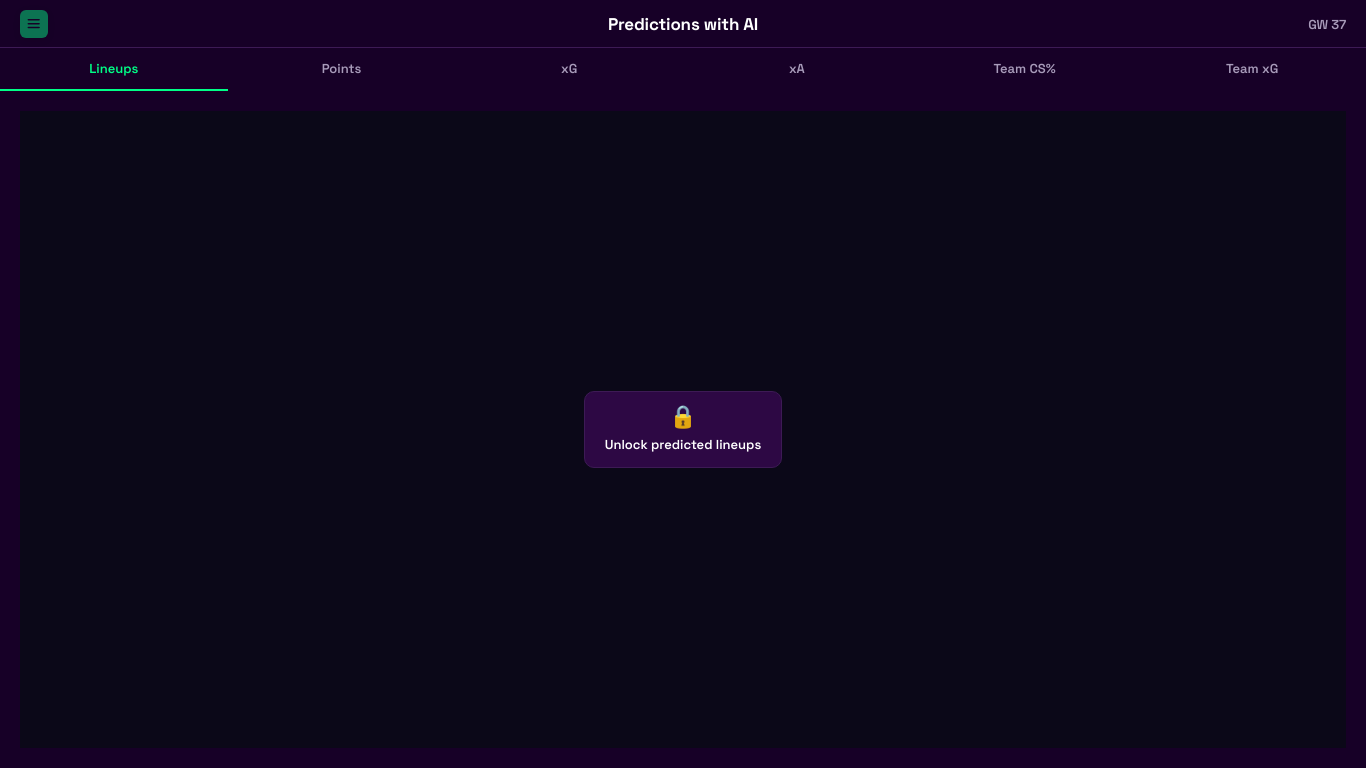
Test: PredictionsScreen › Points tab › uses predictions player profile on Points tab without past gameweek stats
Click the tab "Points". click: (342, 70)
box: left=228, top=48, right=455, bottom=91
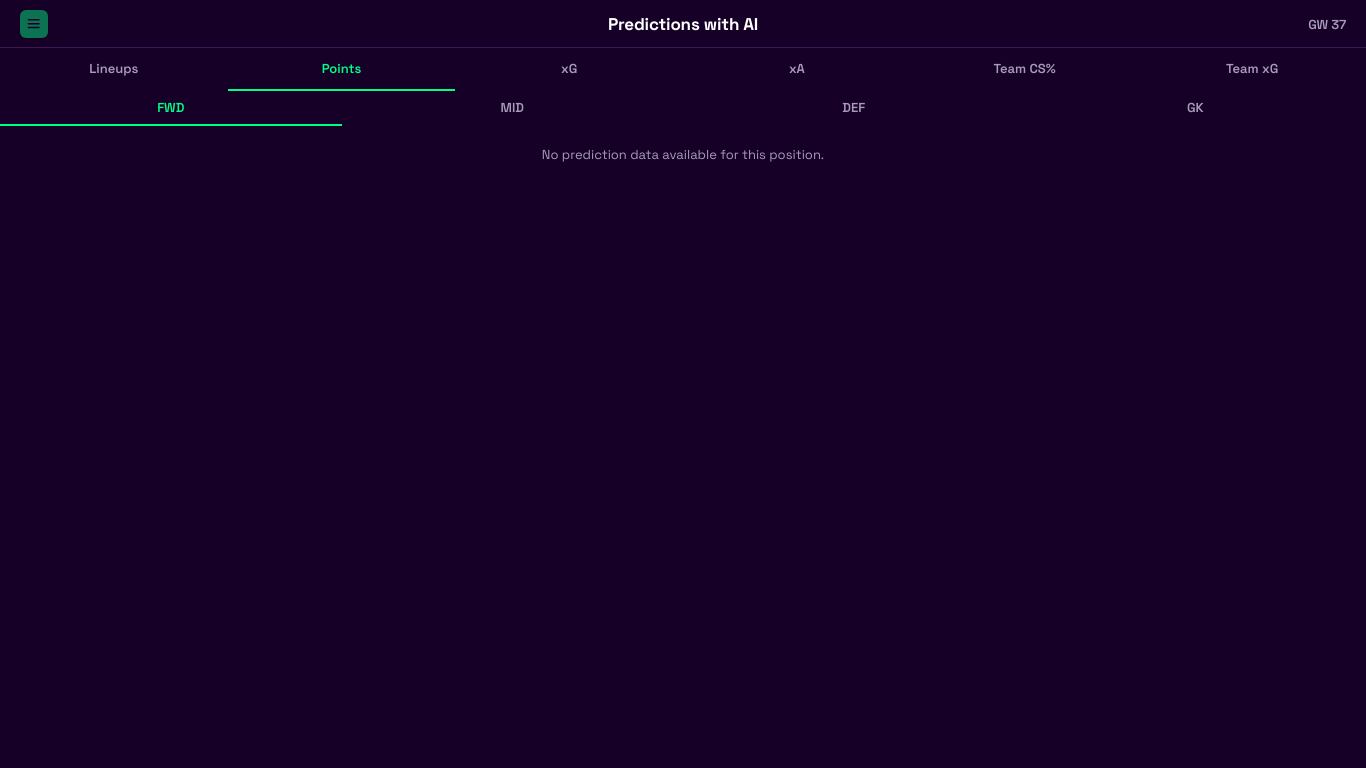
Click the tab "MID". click: (512, 108)
box: left=342, top=91, right=683, bottom=126
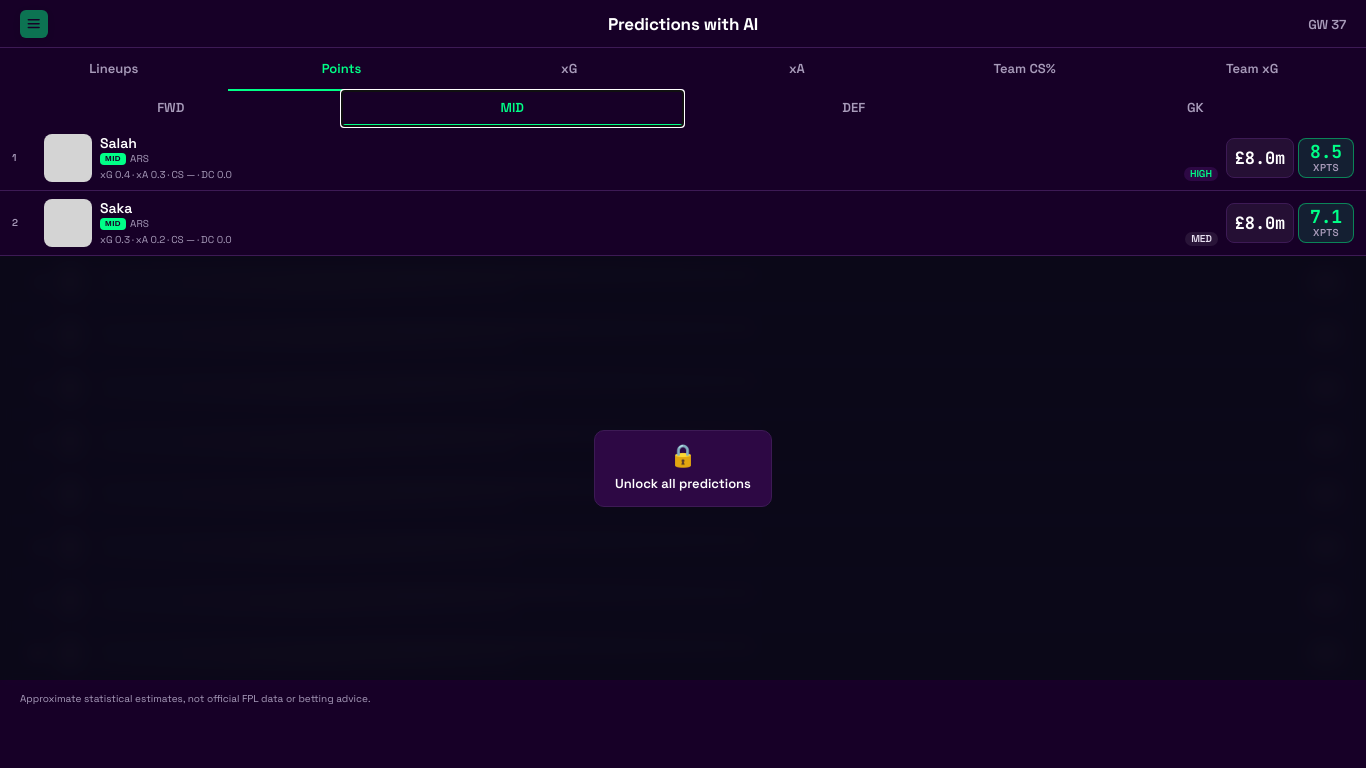
Click the button "Salah". click: (68, 158)
box: left=0, top=126, right=1365, bottom=191
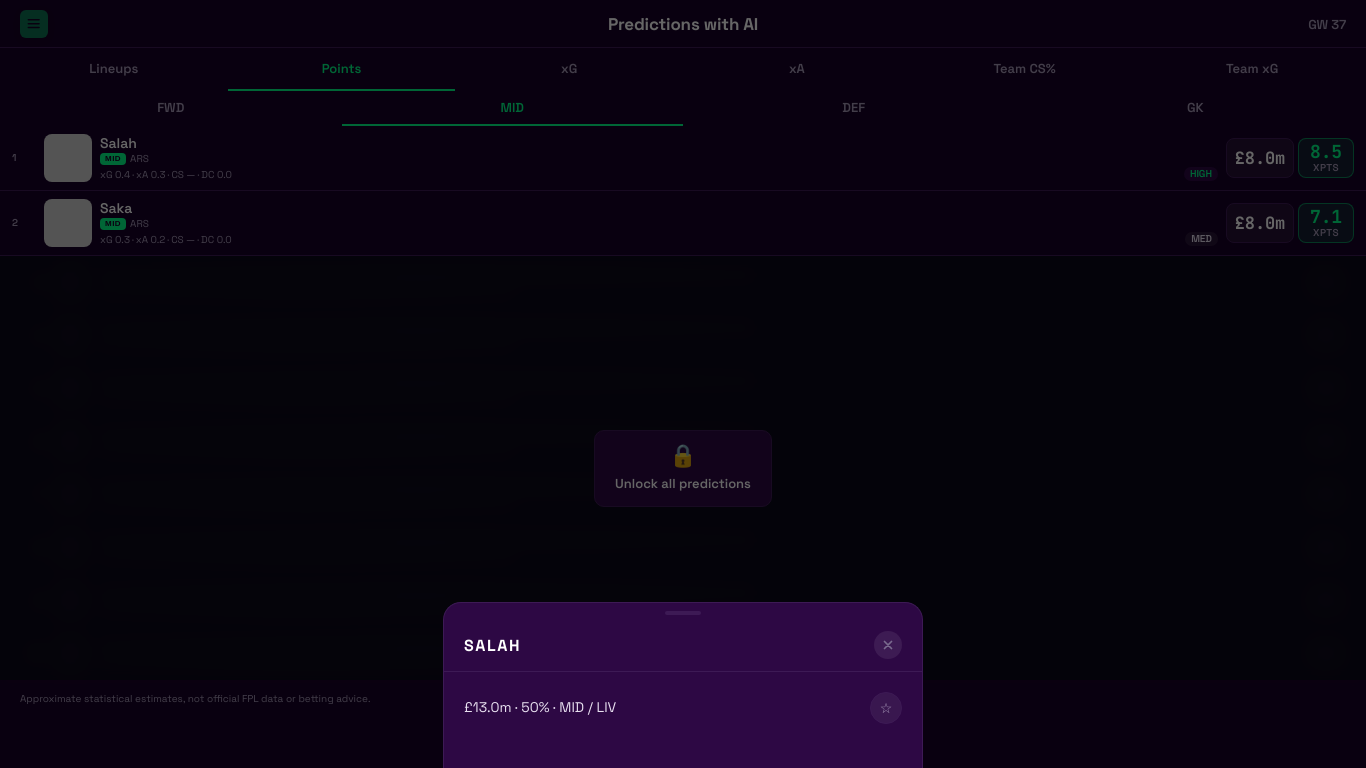
Expected: the dialog is shown, left=443, top=602, right=923, bottom=767
Expected: the text "£13.0m · 50% · MID / LIV" is shown, left=464, top=698, right=616, bottom=716
